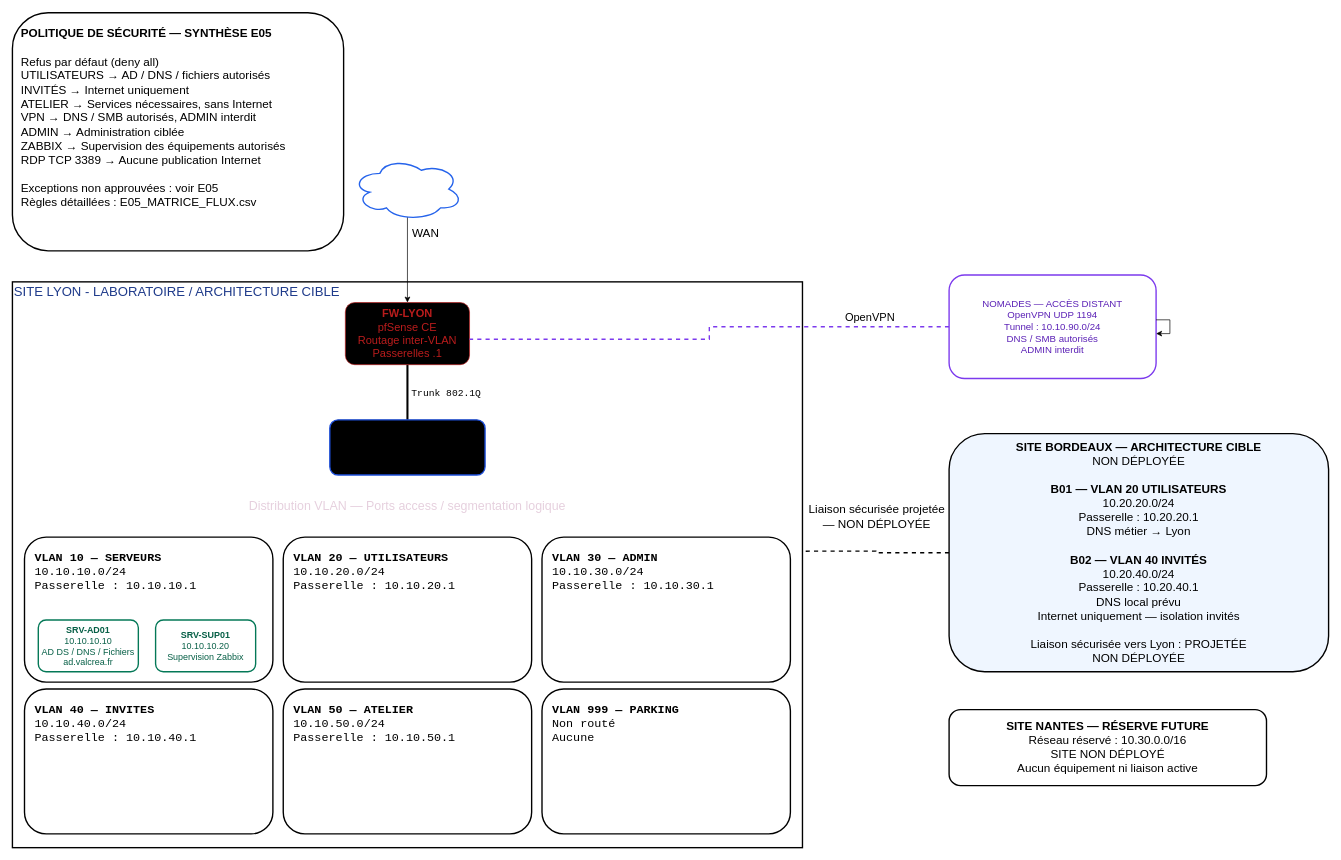
This 1341x860 diagram has some shape labels left out. Here are the shapes that lost their labels. From the top down, the centre of each, then its label:
[407,189]: INTERNET WAN
[407,447]: SW-LYON Open vSwitch VLAN 10, 20, 30, 40, 50, 999
